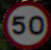Speed limit: (6, 1, 44, 42)
